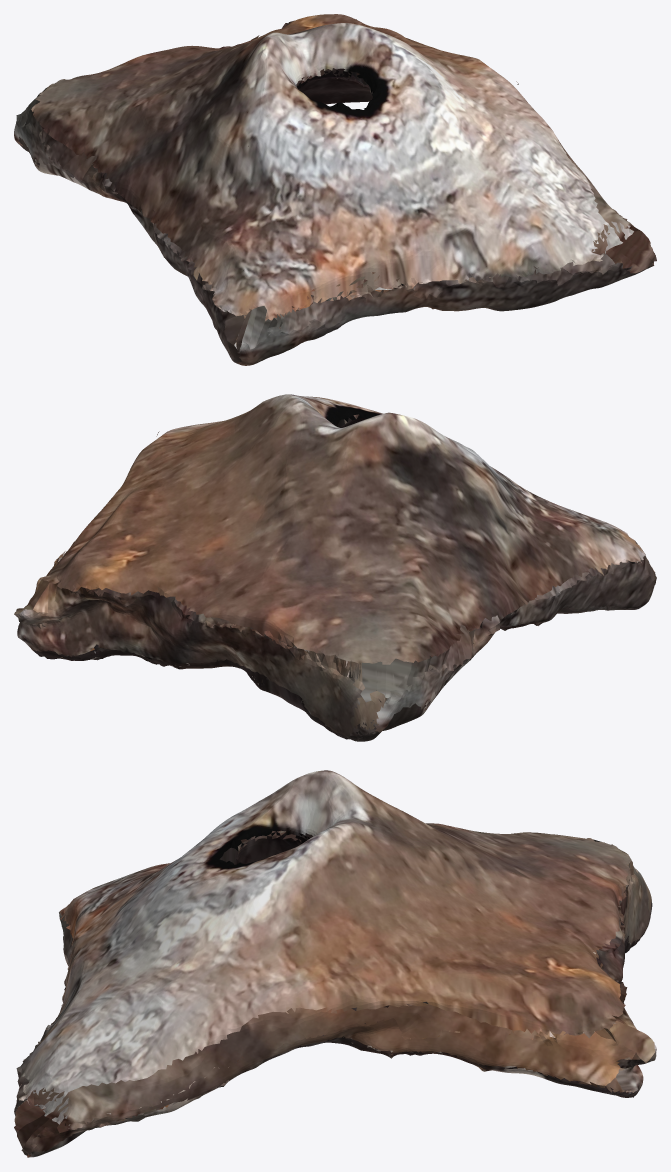
File: nietplatte_bearbeitet0.1.gltf
3 views of the same model, one above another, from view 1: azimuth 30°, elevation 25°; view 2: azimuth 150°, elevation 25°; view 3: azimuth 270°, elevation 25° (orthographic). The views are drawn at different scales.
Parts seen in each view (by area): view 1: modelNietplatte_eng.001; view 2: modelNietplatte_eng.001; view 3: modelNietplatte_eng.001.
Part boxes in pixels (<box>): modelNietplatte_eng.001: <box>14,14,656,365</box>; modelNietplatte_eng.001: <box>14,394,656,741</box>; modelNietplatte_eng.001: <box>14,770,656,1157</box>.
Bounding box in the file's own units: 18.95 × 9.92 × 21.83.
1 material, 1 textured.
